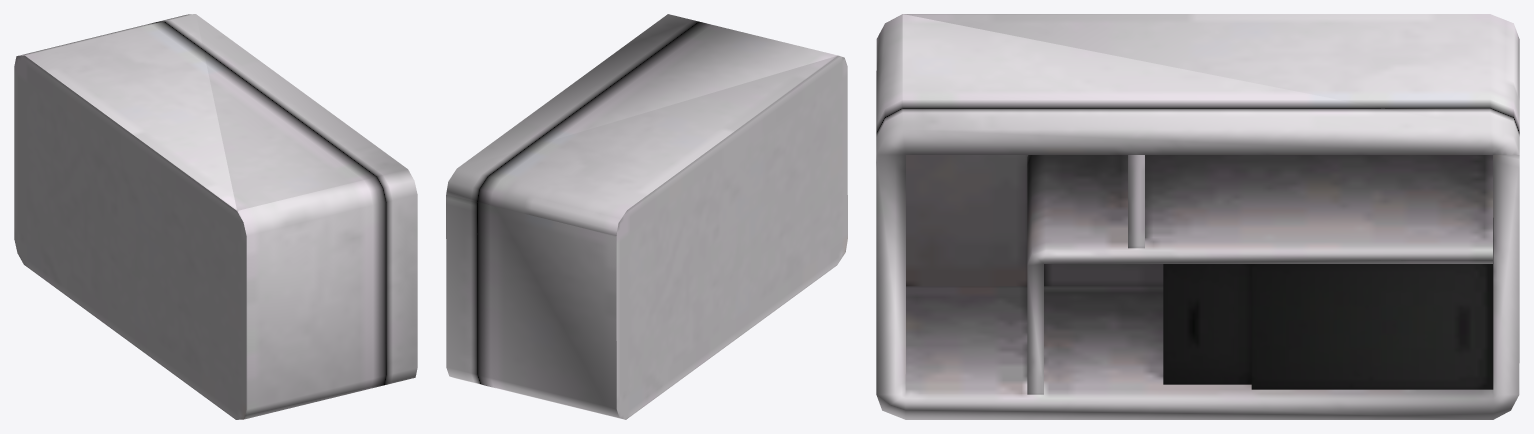
The model's file is Shelf06.FBX.
3 views of the same model, side by side, from view 1: azimuth 30°, elevation 25°; view 2: azimuth 150°, elevation 25°; view 3: azimuth 270°, elevation 25° (orthographic). The views are drawn at different scales.
Visible parts, largest first — view 1: Shelf06; view 2: Shelf06; view 3: Shelf06.
Boxes of the visible parts, x1,y1,x2,y2 form: Shelf06: (14,14,417,419); Shelf06: (446,14,847,419); Shelf06: (876,14,1519,419).
Size of the model in its own units: 0.8502 by 0.9967 by 2.
